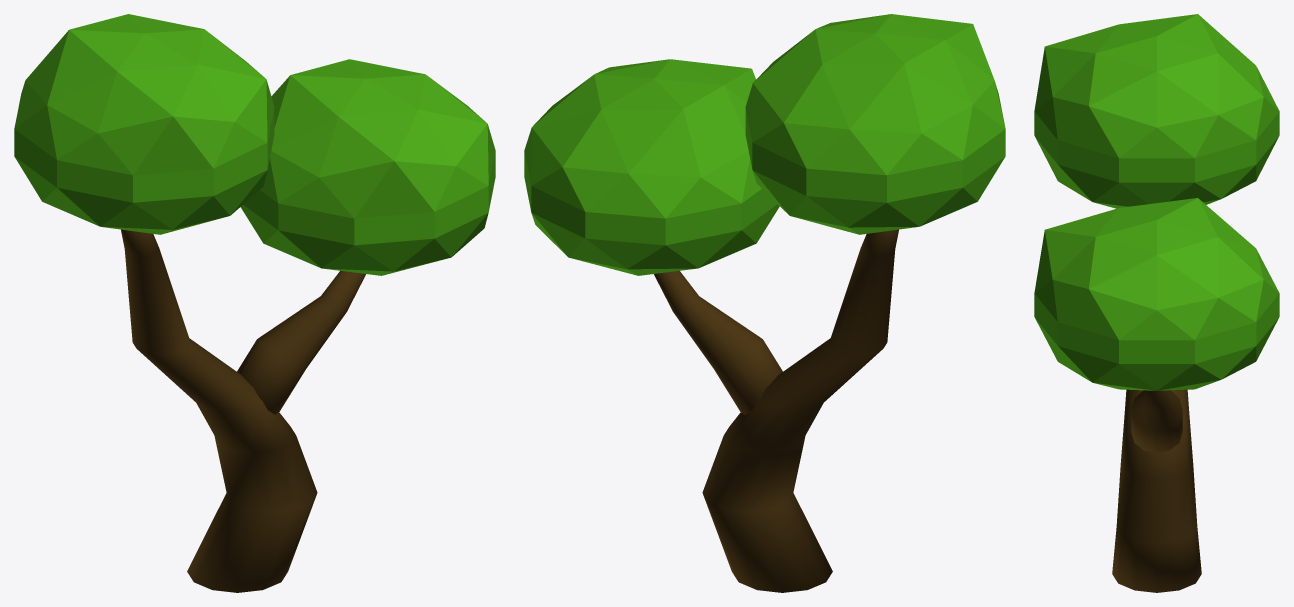
File: tree.glb
3 views of the same model, side by side, from view 1: azimuth 30°, elevation 25°; view 2: azimuth 150°, elevation 25°; view 3: azimuth 270°, elevation 25° (orthographic). The views are drawn at different scales.
Parts seen in each view (by area): view 1: Icosphere, Icosphere.001, Cylinder, Cylinder.001; view 2: Icosphere, Icosphere.001, Cylinder, Cylinder.001; view 3: Icosphere, Icosphere.001, Cylinder, Cylinder.001.
Part boxes in pixels (bbox=[...]): Icosphere: bbox=[14, 14, 274, 234]; Icosphere.001: bbox=[240, 59, 495, 275]; Cylinder: bbox=[121, 229, 317, 592]; Cylinder.001: bbox=[237, 270, 365, 414]; Icosphere: bbox=[745, 14, 1005, 234]; Icosphere.001: bbox=[524, 59, 779, 275]; Cylinder: bbox=[702, 229, 898, 592]; Cylinder.001: bbox=[654, 270, 782, 414]; Icosphere: bbox=[1034, 14, 1279, 208]; Icosphere.001: bbox=[1034, 198, 1279, 390]; Cylinder: bbox=[1112, 389, 1201, 592]; Cylinder.001: bbox=[1131, 390, 1182, 452].
Bounding box in the file's own units: 7.51 × 9.18 × 4.1.
